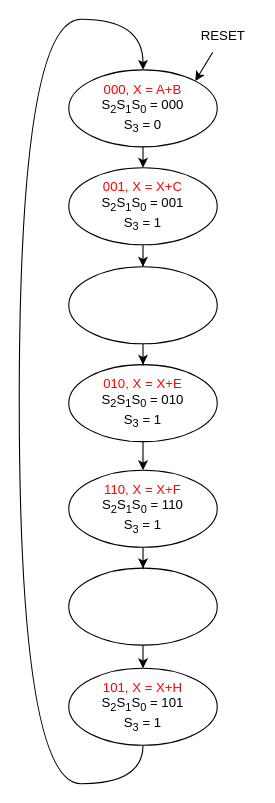
The diagram is 275 pixels wide and 803 high, and some of its shapes have lost their labels. Here are the shapes that lost their labels. From the top down, the centre of each, then its label:
At [142,305]: "011, X = X+D S 2 S 1 S 0 = 011 S 3 = 1".
At [142,606]: "111, X = X+G S 2 S 1 S 0 = 111 S 3 = 1".
